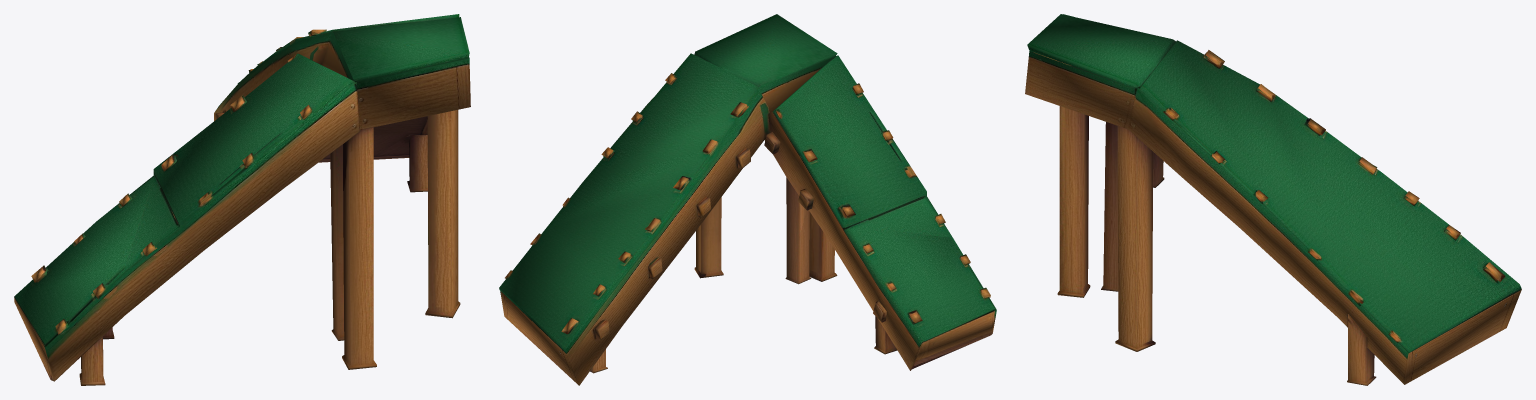
The model's file is woodenramp.glb.
3 renders of one model, left to right at view 1: azimuth 30°, elevation 25°; view 2: azimuth 150°, elevation 25°; view 3: azimuth 270°, elevation 25°, orthographic. The views are drawn at different scales.
Visible parts, largest first — view 1: tripo_node_7683d150-5ba6-42cc-be1c-70006f1c274c; view 2: tripo_node_7683d150-5ba6-42cc-be1c-70006f1c274c; view 3: tripo_node_7683d150-5ba6-42cc-be1c-70006f1c274c.
Boxes of the visible parts, x1,y1,x2,y2 form: tripo_node_7683d150-5ba6-42cc-be1c-70006f1c274c: (14,14,470,385); tripo_node_7683d150-5ba6-42cc-be1c-70006f1c274c: (499,14,996,385); tripo_node_7683d150-5ba6-42cc-be1c-70006f1c274c: (1025,14,1521,385).
Size of the model in its own units: 0.998 by 0.5645 by 0.8926.
1 material, 1 textured.
